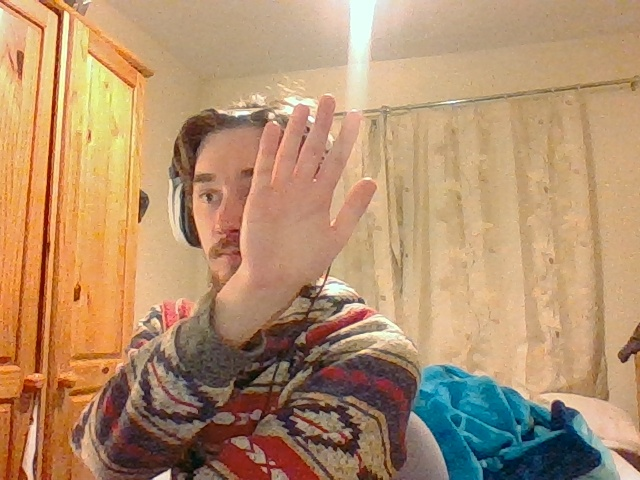hello: (240, 94, 378, 303)
